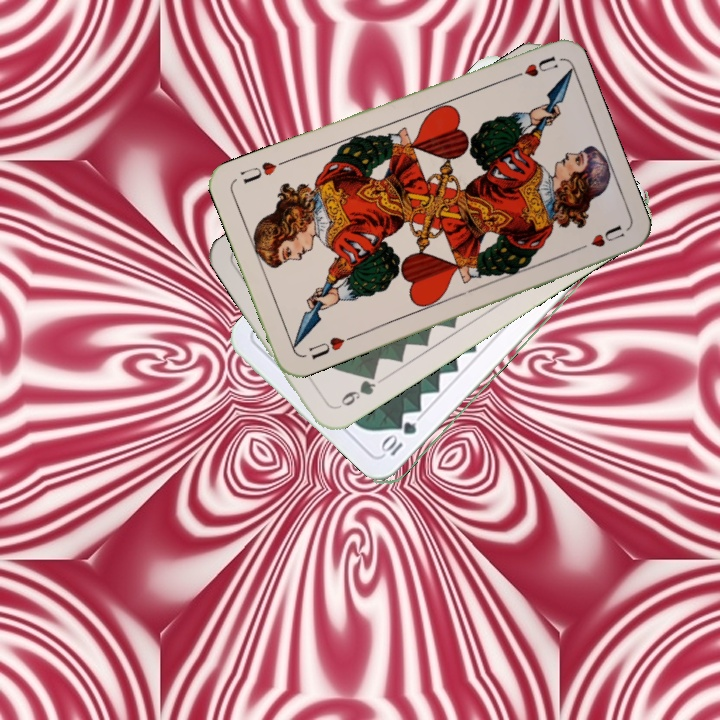G10: (380, 418, 420, 459)
G9: (331, 368, 379, 412)
HU: (504, 52, 560, 83), (304, 331, 356, 362)
